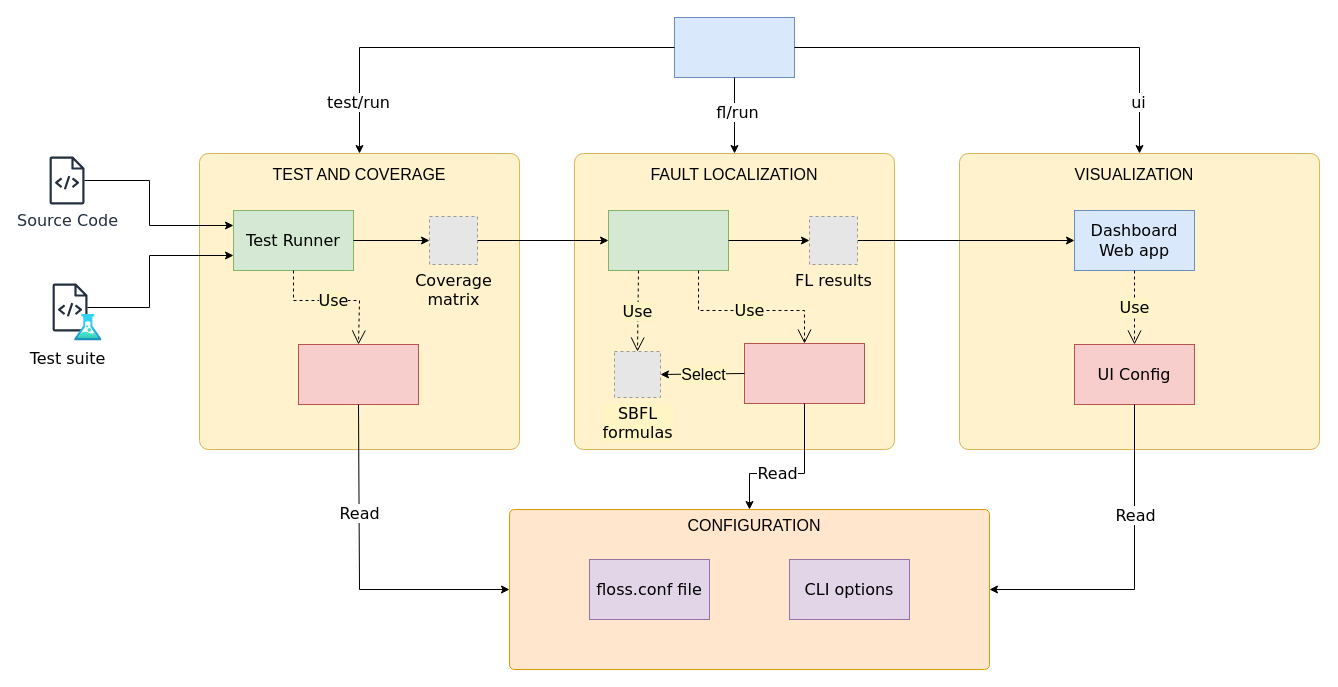
Image size: 1338x687. Some labels were removed from this diagram. Grey dashed boxes stand in for pictures. Here are the shapes that lost their labels. From the top down, the centre of each, then its label:
point (734, 47): CLI
point (668, 240): FL Engine
point (358, 374): Test Config
point (804, 373): FL Config
